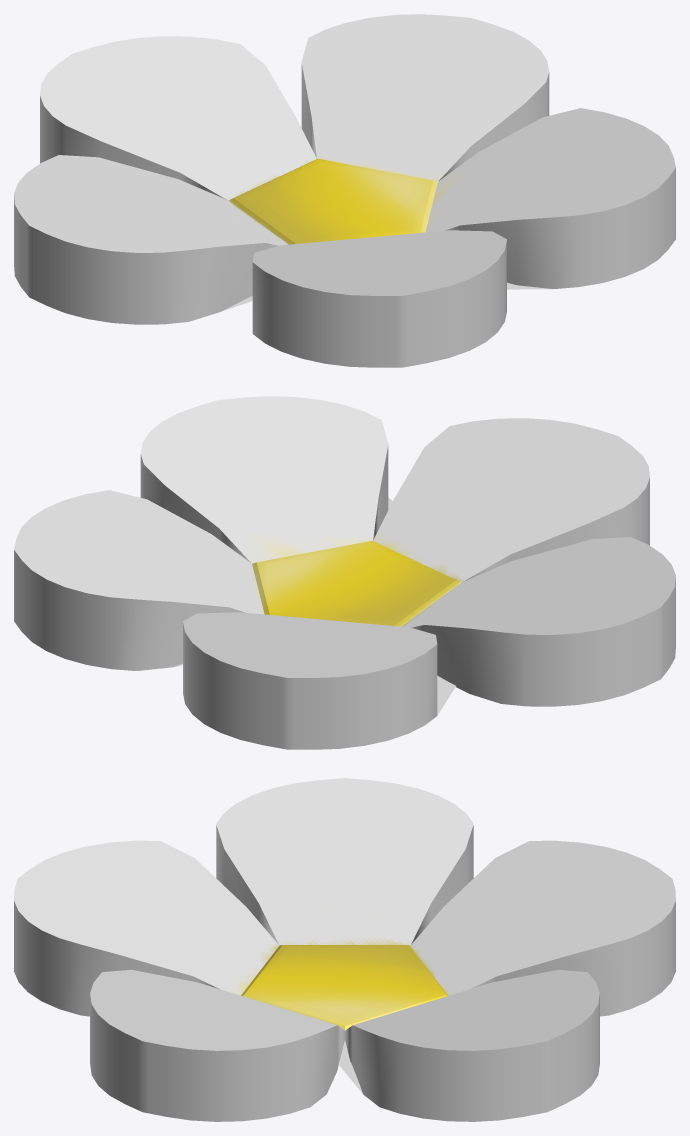
File: Flower [Textured].fbx
3 renders of one model, top to bottom at view 1: azimuth 30°, elevation 25°; view 2: azimuth 150°, elevation 25°; view 3: azimuth 270°, elevation 25°, orthographic.
Visible parts, largest first — view 1: pCylinder1; view 2: pCylinder1; view 3: pCylinder1.
Part boxes in pixels (x1,y1,x2,y2): pCylinder1: [14, 14, 675, 367]; pCylinder1: [14, 396, 675, 749]; pCylinder1: [14, 778, 675, 1121].
Size of the model in its own units: 1.92 by 0.255 by 1.97.
Materials: 1 (1 with a texture image).
